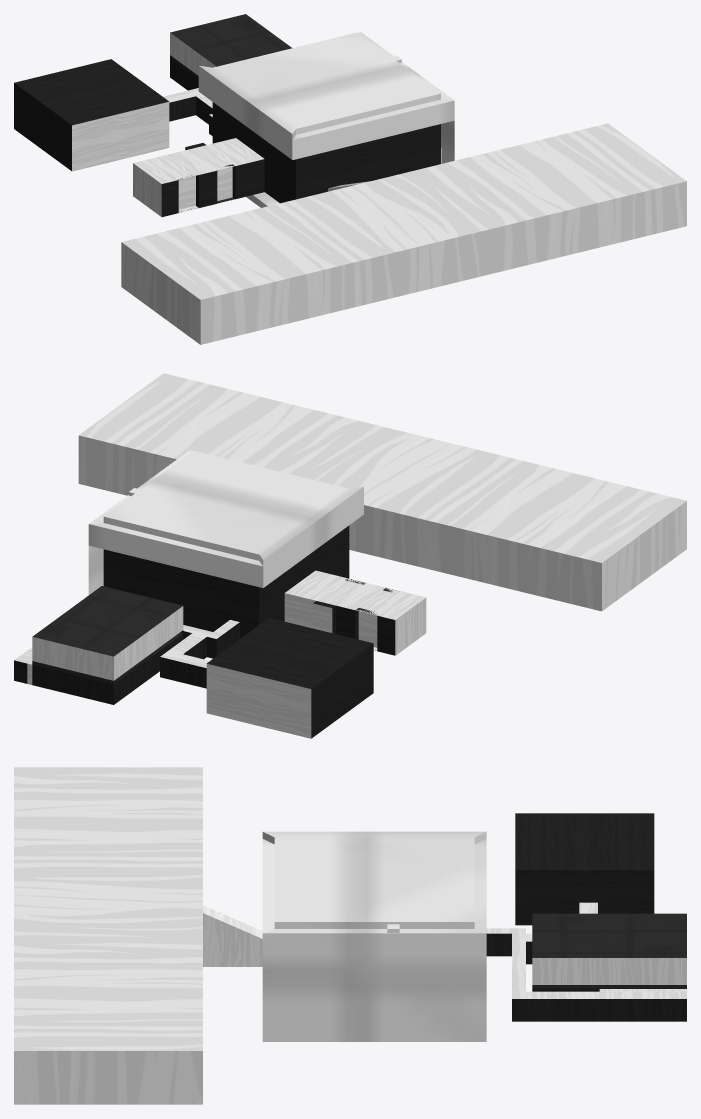
Rendered from testmapUV's.fbx.
3 renders of one model, top to bottom at view 1: azimuth 30°, elevation 25°; view 2: azimuth 150°, elevation 25°; view 3: azimuth 270°, elevation 25°, orthographic. The views are drawn at different scales.
Parts seen in each view (by area): view 1: mesh_5; view 2: mesh_5; view 3: mesh_5.
Part boxes in pixels (x1,y1,x2,y2): mesh_5: (14, 14, 686, 344); mesh_5: (14, 373, 686, 738); mesh_5: (14, 767, 686, 1104).
Size of the model in its own units: 6877 by 1308 by 6896.
